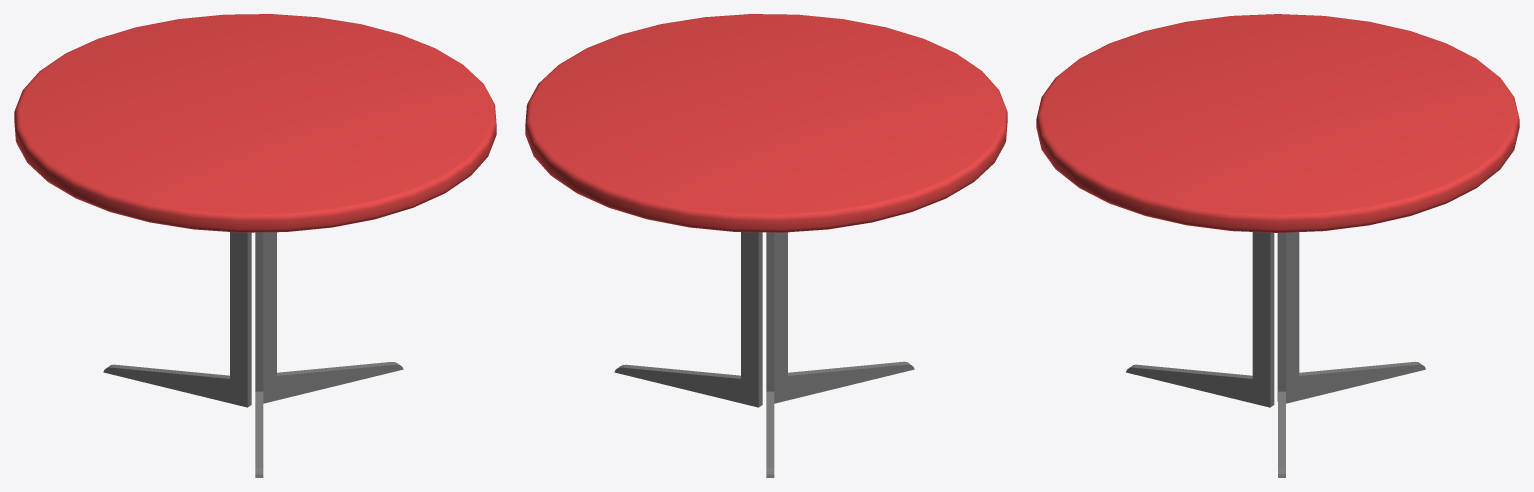
The model's file is table_7.glb.
The picture shows the model from 3 angles, left to right: view 1: azimuth 30°, elevation 25°; view 2: azimuth 150°, elevation 25°; view 3: azimuth 270°, elevation 25°; orthographic projection.
Visible parts, largest first — view 1: table_7.016; view 2: table_7.016; view 3: table_7.016.
Boxes of the visible parts, bbox=[...] form: table_7.016: bbox=[14, 14, 496, 477]; table_7.016: bbox=[525, 14, 1007, 477]; table_7.016: bbox=[1036, 14, 1519, 477].
Bounding box in the file's own units: 0.8222 × 0.5472 × 0.8222.
